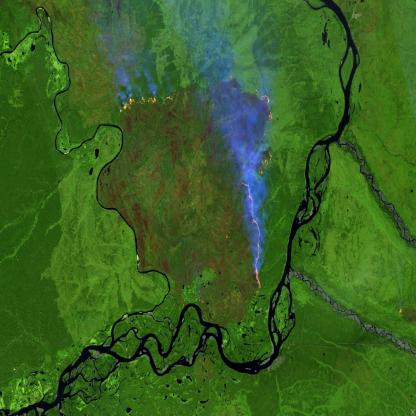fire: (240, 86, 277, 299), (117, 91, 178, 116)
